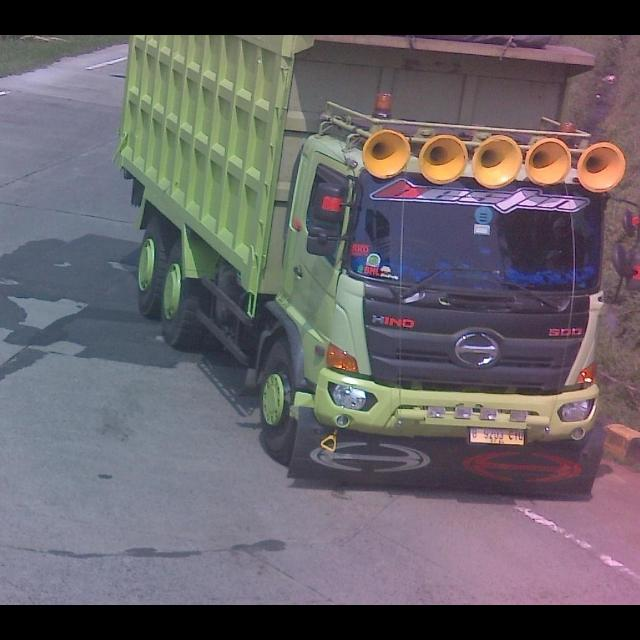plate: (467, 421, 529, 447)
